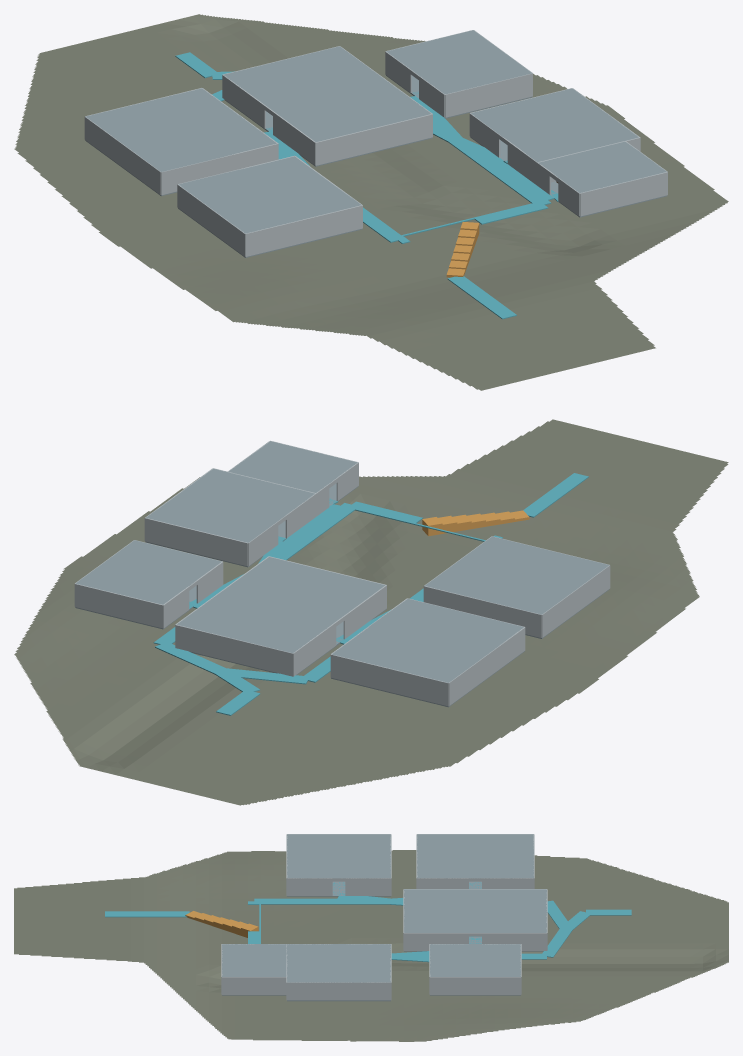
File: terrain-assembly.glb
The picture shows the model from 3 angles, top to bottom: view 1: azimuth 30°, elevation 25°; view 2: azimuth 150°, elevation 25°; view 3: azimuth 270°, elevation 25°; orthographic projection. The views are drawn at different scales.
Visible parts, largest first — view 1: Saved editor macroterrain WLD-11, Ceiling cap warehouse, Ceiling cap chapel, Ceiling cap house-a, Ceiling cap house-b, Ceiling cap shack, Ceiling cap pump, Wall warehouse S, Wall house-a S, Wall pump S, Wall chapel S, Wall shack S (+11 smaller); view 2: Saved editor macroterrain WLD-11, Ceiling cap warehouse, Ceiling cap chapel, Ceiling cap house-a, Ceiling cap house-b, Ceiling cap shack, Ceiling cap pump, Wall chapel N, Wall warehouse N, Wall house-b N, Wall shack N, Wall house-a N (+12 smaller); view 3: Saved editor macroterrain WLD-11, Ceiling cap warehouse, Ceiling cap chapel, Ceiling cap house-a, Ceiling cap house-b, Ceiling cap shack, Ceiling cap pump, Wall house-b E, Wall shack E, Wall pump E, L03 support 1, Wall warehouse E (+7 smaller).
Part boxes in pixels (<box>): Saved editor macroterrain WLD-11: <box>14,14,728,390</box>; Ceiling cap warehouse: <box>224,46,431,141</box>; Ceiling cap chapel: <box>85,88,276,171</box>; Ceiling cap house-a: <box>178,156,361,233</box>; Ceiling cap house-b: <box>471,88,638,162</box>; Ceiling cap shack: <box>386,30,531,94</box>; Ceiling cap pump: <box>538,141,666,192</box>; Wall warehouse S: <box>315,114,432,165</box>; Wall house-a S: <box>245,205,362,256</box>; Wall pump S: <box>580,172,667,216</box>; Wall chapel S: <box>161,143,278,195</box>; Wall shack S: <box>445,73,532,117</box>; Saved editor macroterrain WLD-11: <box>14,419,728,805</box>; Ceiling cap warehouse: <box>177,557,384,653</box>; Ceiling cap chapel: <box>332,598,523,682</box>; Ceiling cap house-a: <box>425,536,609,614</box>; Ceiling cap house-b: <box>146,468,314,542</box>; Ceiling cap shack: <box>76,540,221,604</box>; Ceiling cap pump: <box>228,441,357,492</box>; Wall chapel N: <box>330,654,448,706</box>; Wall warehouse N: <box>175,624,293,676</box>; Wall house-b N: <box>145,518,247,566</box>; Wall shack N: <box>75,583,163,628</box>; Wall house-a N: <box>424,586,541,637</box>; Saved editor macroterrain WLD-11: <box>14,850,728,1041</box>; Ceiling cap warehouse: <box>404,889,546,932</box>; Ceiling cap chapel: <box>417,834,533,878</box>; Ceiling cap house-a: <box>287,834,390,878</box>; Ceiling cap house-b: <box>287,944,390,982</box>; Ceiling cap shack: <box>430,944,520,976</box>; Ceiling cap pump: <box>222,944,286,976</box>; Wall house-b E: <box>287,982,390,1000</box>; Wall shack E: <box>430,977,520,994</box>; Wall pump E: <box>222,977,286,994</box>; L03 support 1: <box>254,898,390,904</box>; Wall warehouse E: <box>482,933,546,950</box>.
Bounding box in the file's own units: 70 × 7.1 × 110.
Materials: 15 (10 with a texture image).
